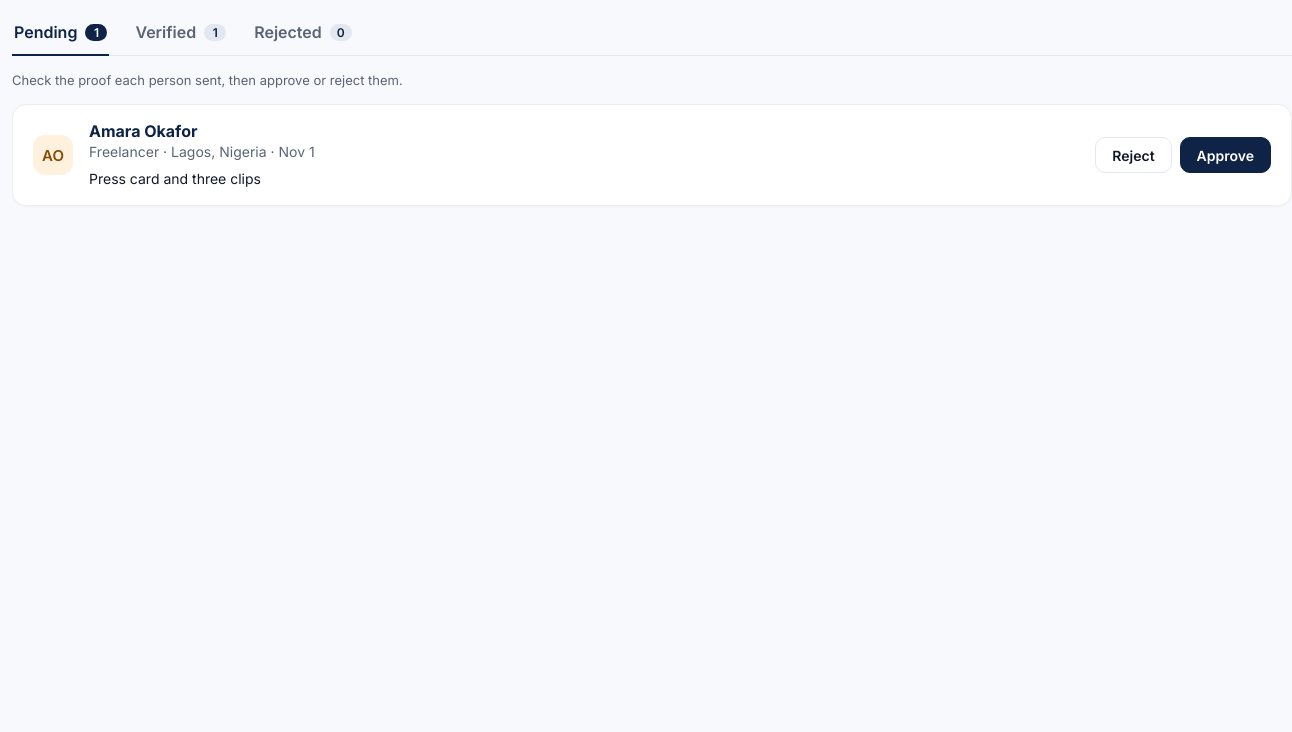
it: VerificationList › keeps a rejection editable
Click the button "Reject": (1133, 155) [1095,137,1172,173]
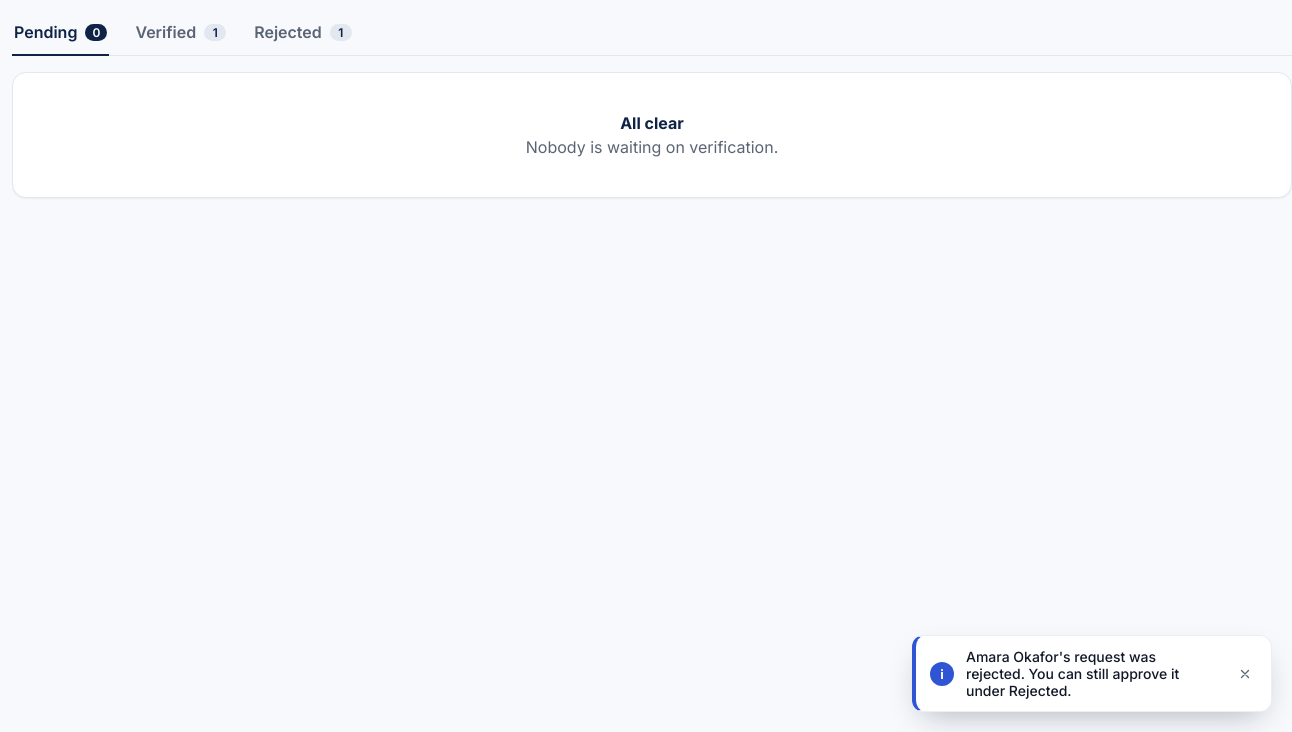
Click the button "Rejected 1": (303, 34) [252,12,354,56]
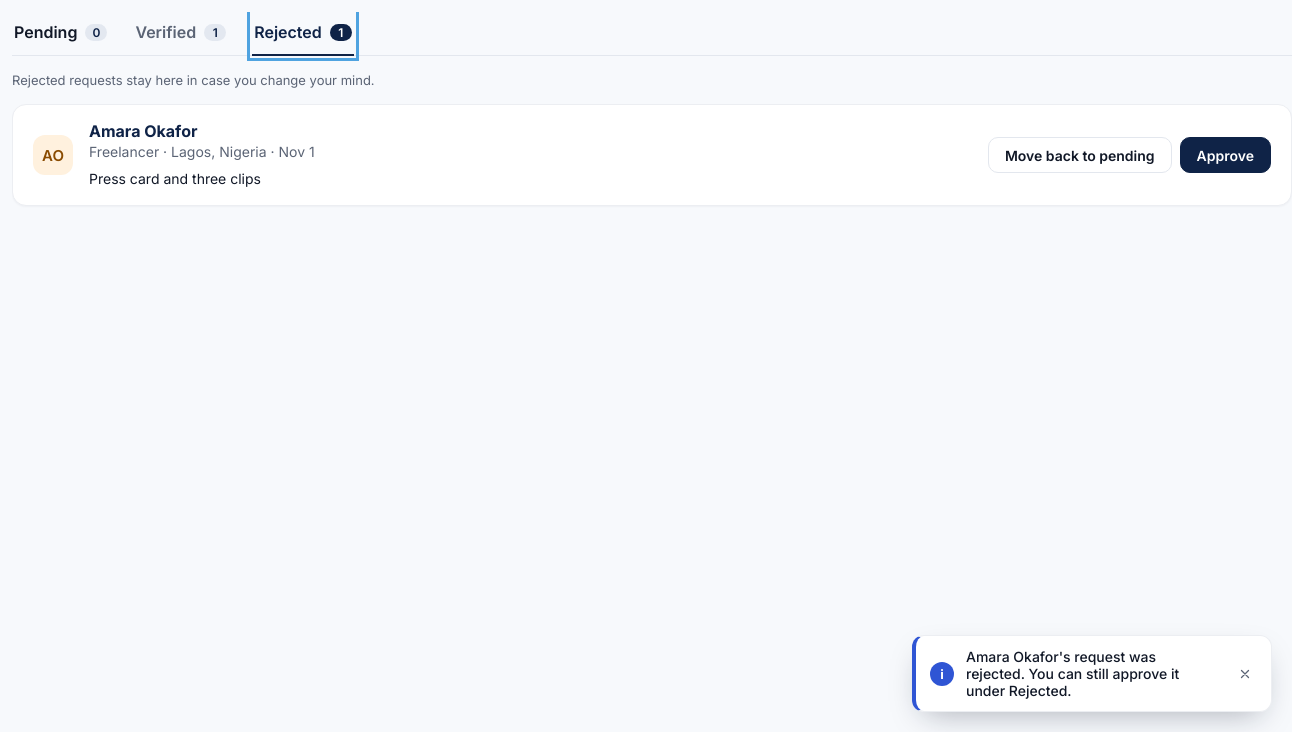
Result: the list item shows "Amara Okafor" at [89,121,198,141]
Click the button "Move back to pending": (1080, 155) [988,137,1172,173]
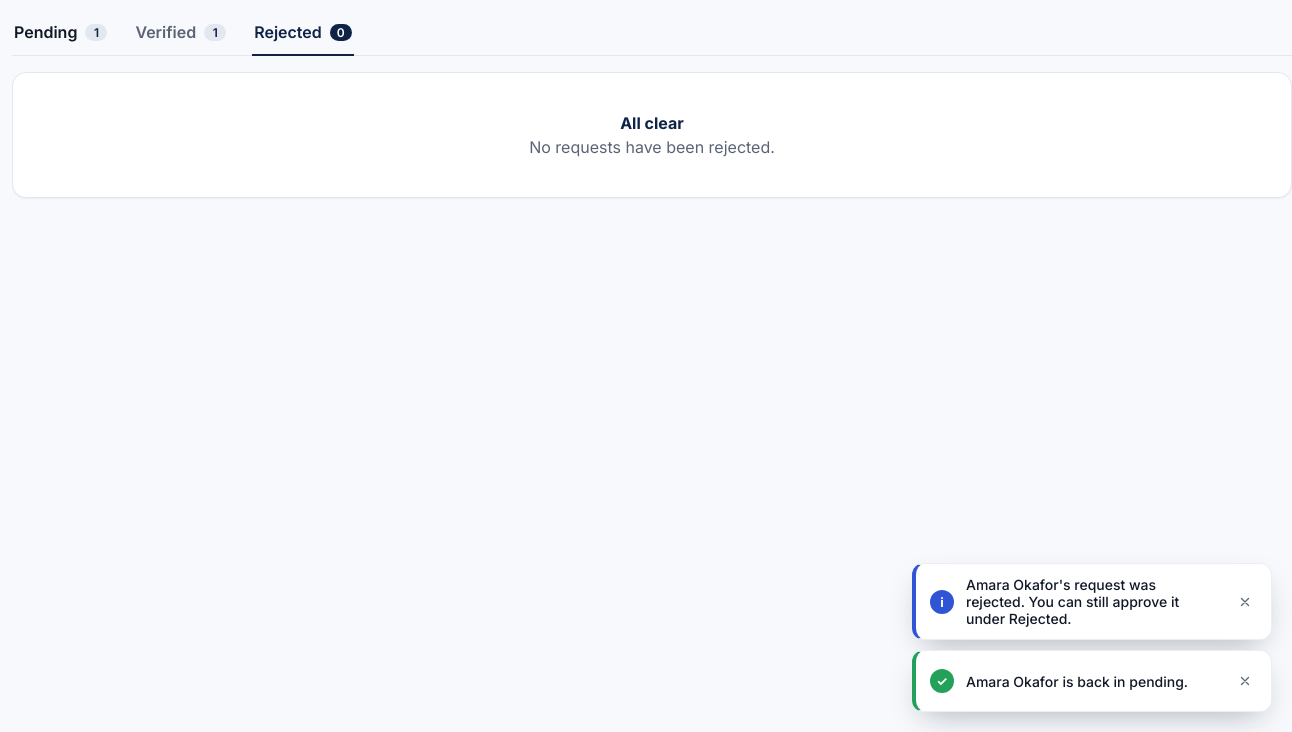
Click the button "Pending 1": (61, 34) [12,12,109,56]
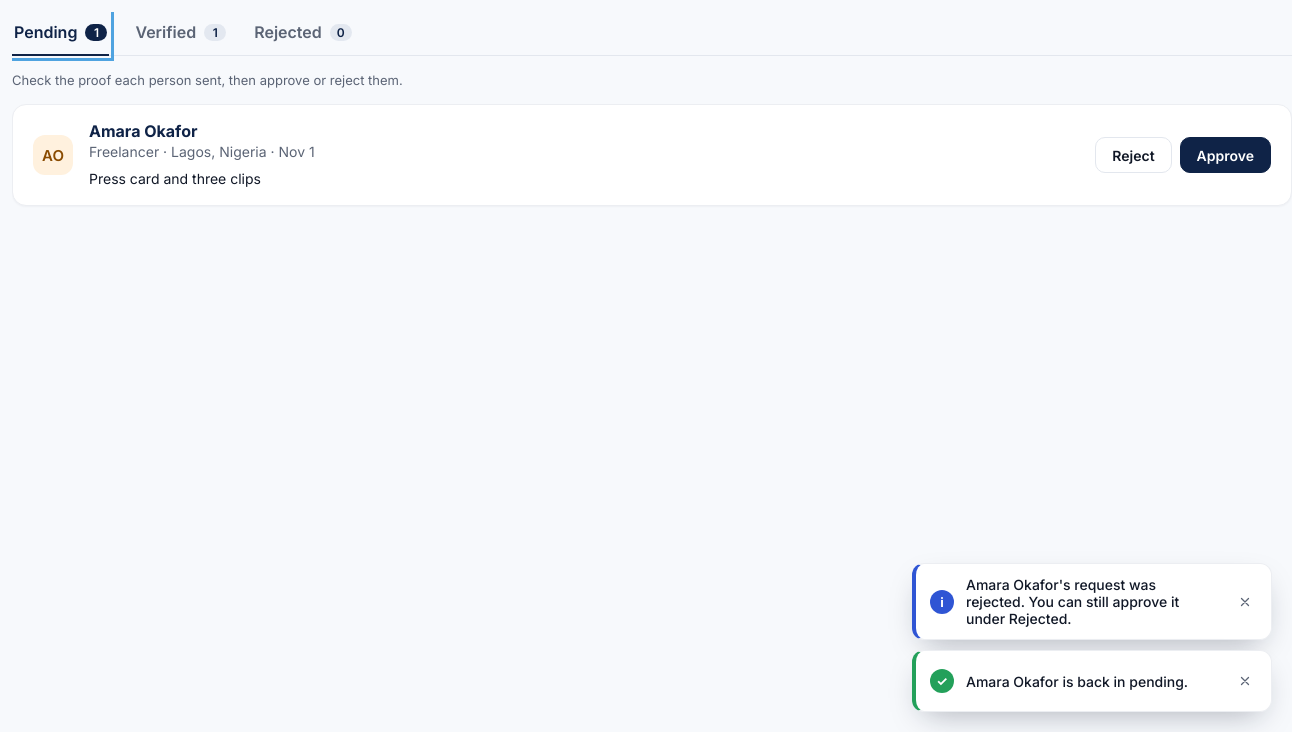
Result: the list item shows "Amara Okafor" at [89,121,198,141]
